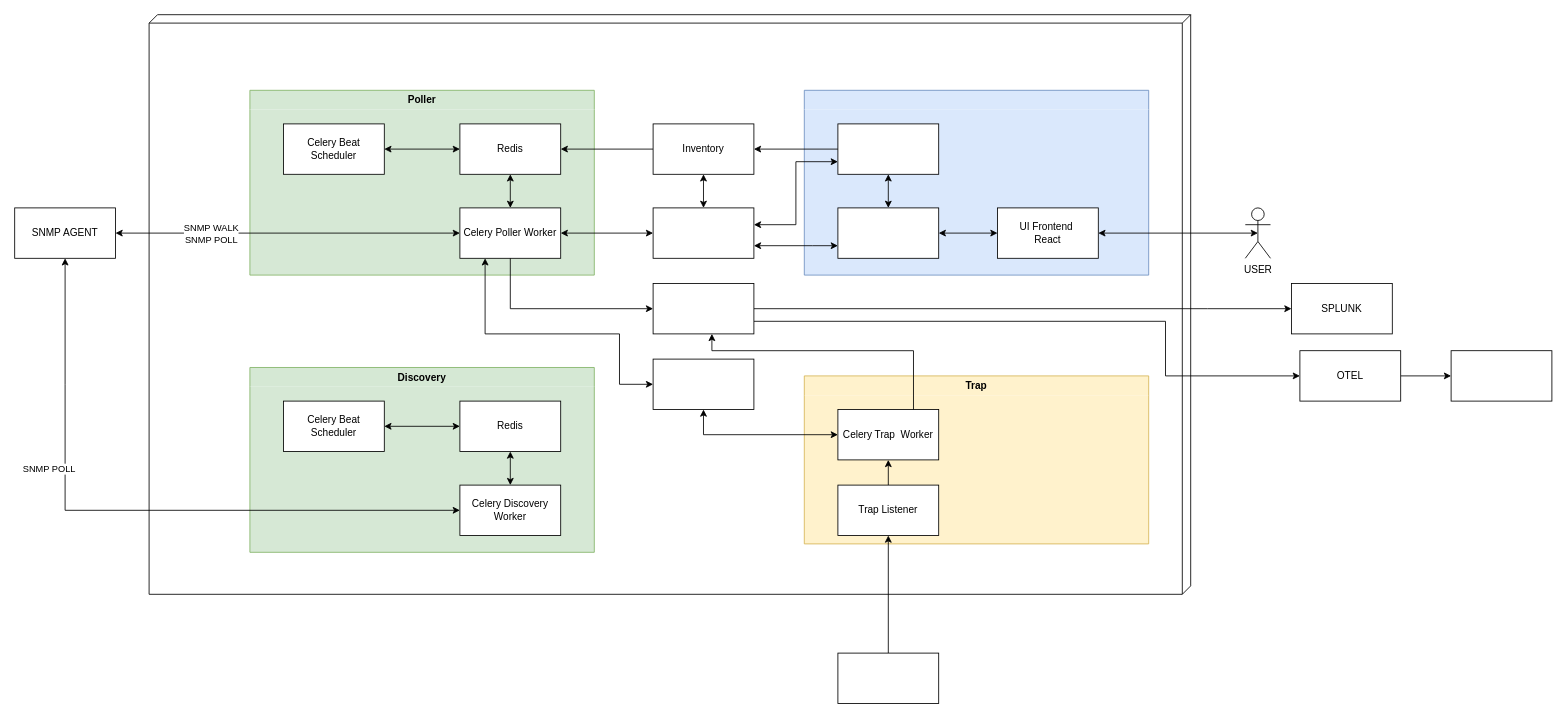
Image size: 1567x718. Some labels were removed from this diagram. The shapes that lost their labels are listed below. From the top down, each one's box as (x1, y1, x2, y2) in pixels, then its label:
(837, 123, 939, 174): Backend Worker
(803, 89, 1149, 275): UI
(652, 207, 754, 258): MongoDB
(837, 207, 939, 258): UI Backend Flask
(148, 14, 1191, 594): Splunk Connect for SNMP
(652, 283, 754, 334): Celery Sender Worker
(652, 358, 754, 410): Mibserver
(1450, 350, 1552, 401): SIGNALFX
(837, 652, 939, 704): SNMP NOTIFICATION SERVER
